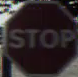Stop: (4, 9, 74, 62)
